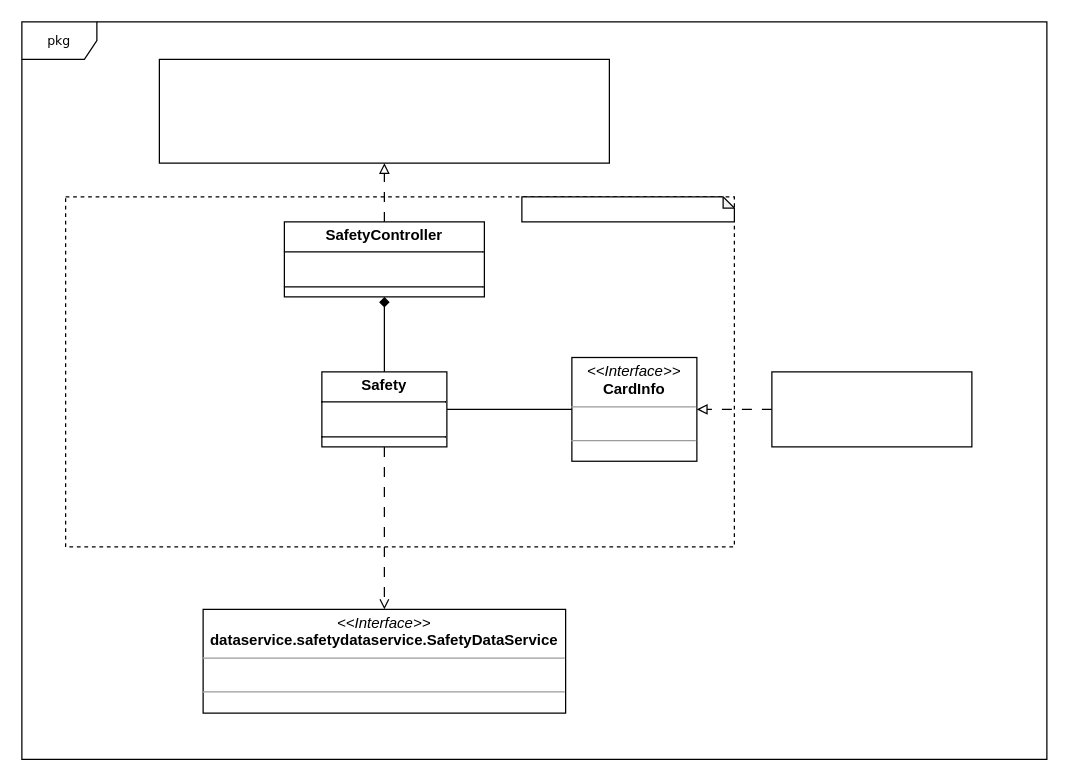
Some shapes in this 1069 by 781 pixel diagram are drawn without their labels. Each missing label, with the centre of its shape:
"<<Interface>> businesslogicservice.withdrawblservice.WithdrawBLService" goes at [383,110].
"businesslogic.cardbl.Card" goes at [871,409].
"businesslogic.safetybl 包" goes at [627,209].
